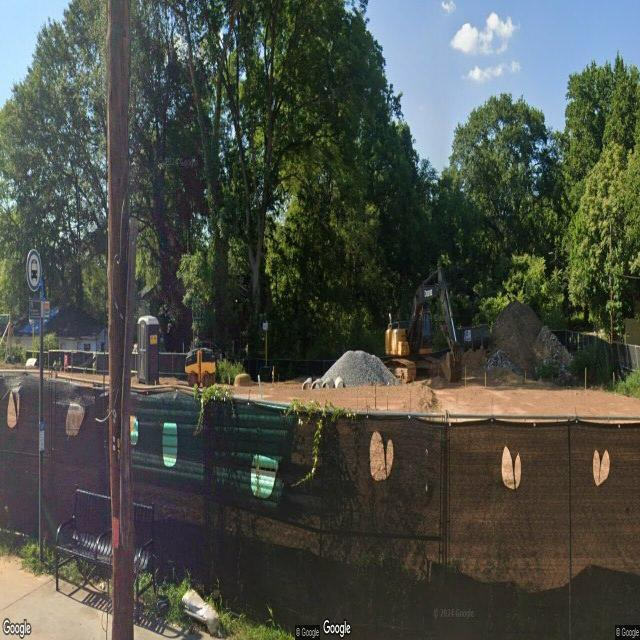seating: (54, 484, 156, 624)
